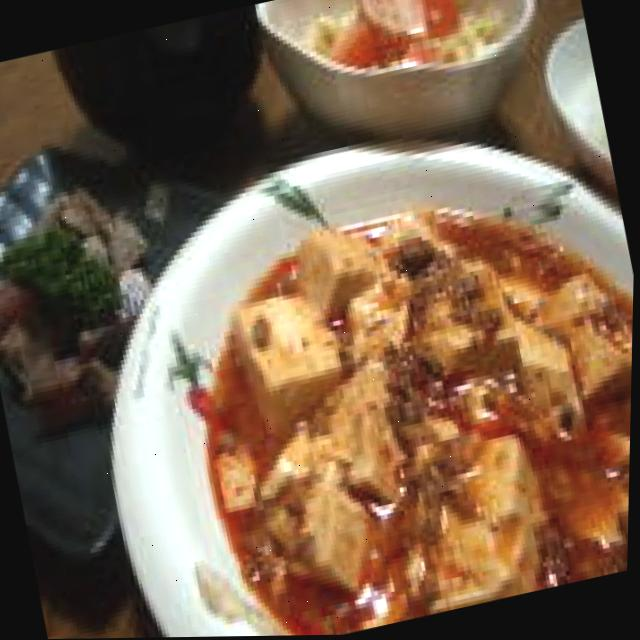豆腐料理: (47, 76, 639, 639)
